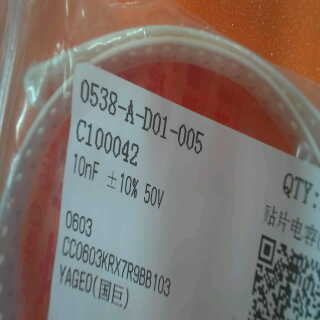10nF: (66, 156, 107, 180)
